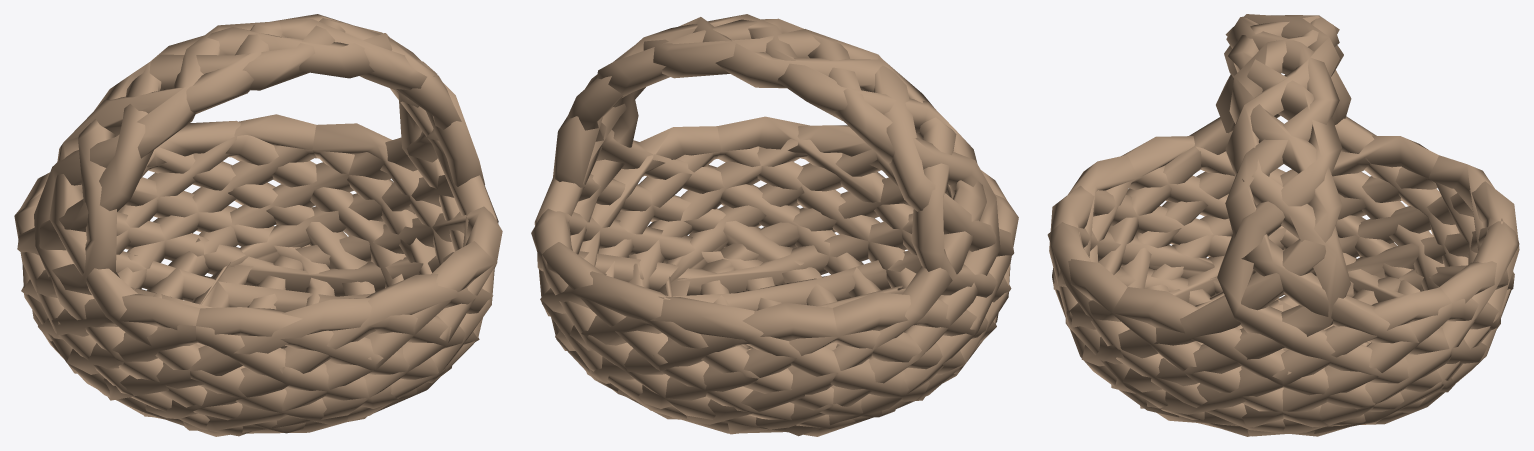
File: 바구니_.fbx
The picture shows the model from 3 angles, left to right: view 1: azimuth 30°, elevation 25°; view 2: azimuth 150°, elevation 25°; view 3: azimuth 270°, elevation 25°; orthographic projection.
Parts seen in each view (by area): view 1: 바구니; view 2: 바구니; view 3: 바구니.
Part boxes in pixels (<box>): 바구니: <box>14,14,502,436</box>; 바구니: <box>531,14,1018,436</box>; 바구니: <box>1047,14,1519,436</box>.
Size of the model in its own units: 41.81 by 35.14 by 42.35.
